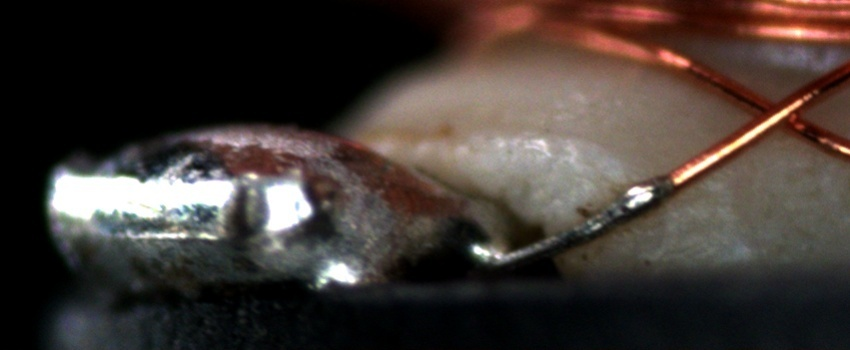CL: (735, 82, 822, 142)
DL: (664, 179, 737, 223)
TS: (468, 177, 671, 267)
TTCW: (467, 146, 721, 268)
